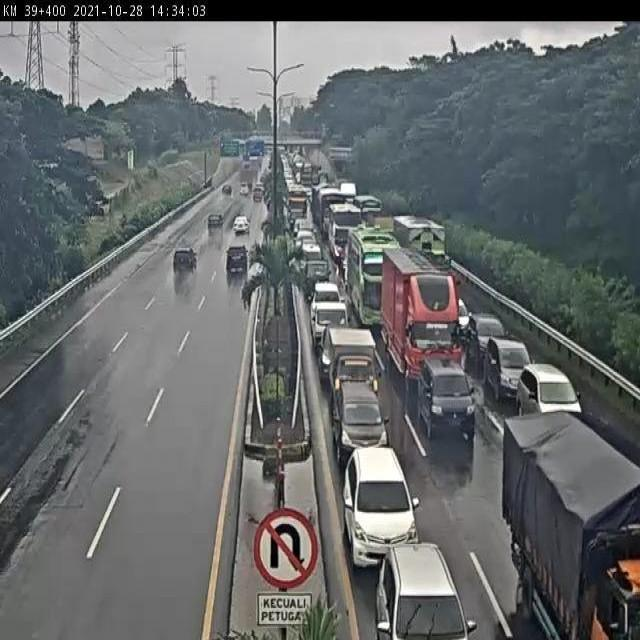car: (367, 512, 463, 639), (343, 448, 421, 565), (416, 356, 478, 447), (322, 328, 384, 405), (327, 382, 389, 458), (488, 339, 533, 401), (520, 364, 580, 409), (309, 296, 350, 352), (466, 313, 508, 360), (298, 259, 330, 299), (447, 293, 470, 335), (226, 243, 248, 275), (171, 247, 196, 275), (296, 238, 320, 266), (312, 278, 340, 302), (230, 213, 252, 235), (207, 212, 226, 235), (294, 223, 312, 243)
truck: (484, 406, 640, 640), (380, 247, 459, 393), (348, 228, 401, 329), (392, 212, 456, 284), (322, 202, 362, 258), (318, 190, 347, 238), (286, 186, 308, 226)
